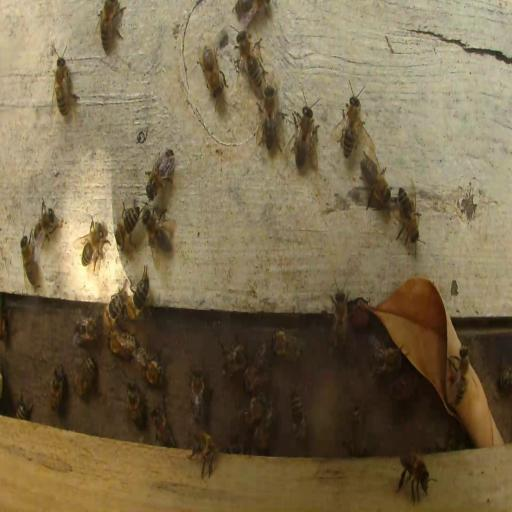bee: (395, 451, 432, 504), (30, 197, 61, 251), (294, 101, 318, 170), (395, 185, 421, 247), (236, 33, 265, 85), (54, 50, 76, 118), (142, 208, 174, 254), (189, 428, 217, 479), (96, 0, 124, 51), (361, 162, 392, 206), (330, 283, 349, 351), (199, 46, 224, 96), (340, 96, 360, 157), (146, 155, 172, 200), (218, 340, 248, 378), (368, 342, 402, 375), (100, 289, 127, 330), (115, 206, 140, 250), (136, 347, 164, 386), (79, 220, 107, 259), (244, 340, 268, 385), (270, 329, 303, 360), (238, 395, 266, 431), (21, 234, 39, 289), (74, 355, 97, 398), (452, 347, 468, 408), (130, 266, 149, 317), (153, 405, 175, 447), (262, 85, 276, 149), (126, 380, 144, 429), (254, 406, 273, 452), (290, 391, 307, 442), (189, 368, 205, 422), (108, 328, 136, 358), (350, 403, 365, 454), (390, 375, 418, 402), (232, 0, 262, 23), (50, 364, 64, 413), (73, 317, 99, 343), (0, 293, 10, 342), (16, 400, 32, 419), (500, 364, 510, 391)
